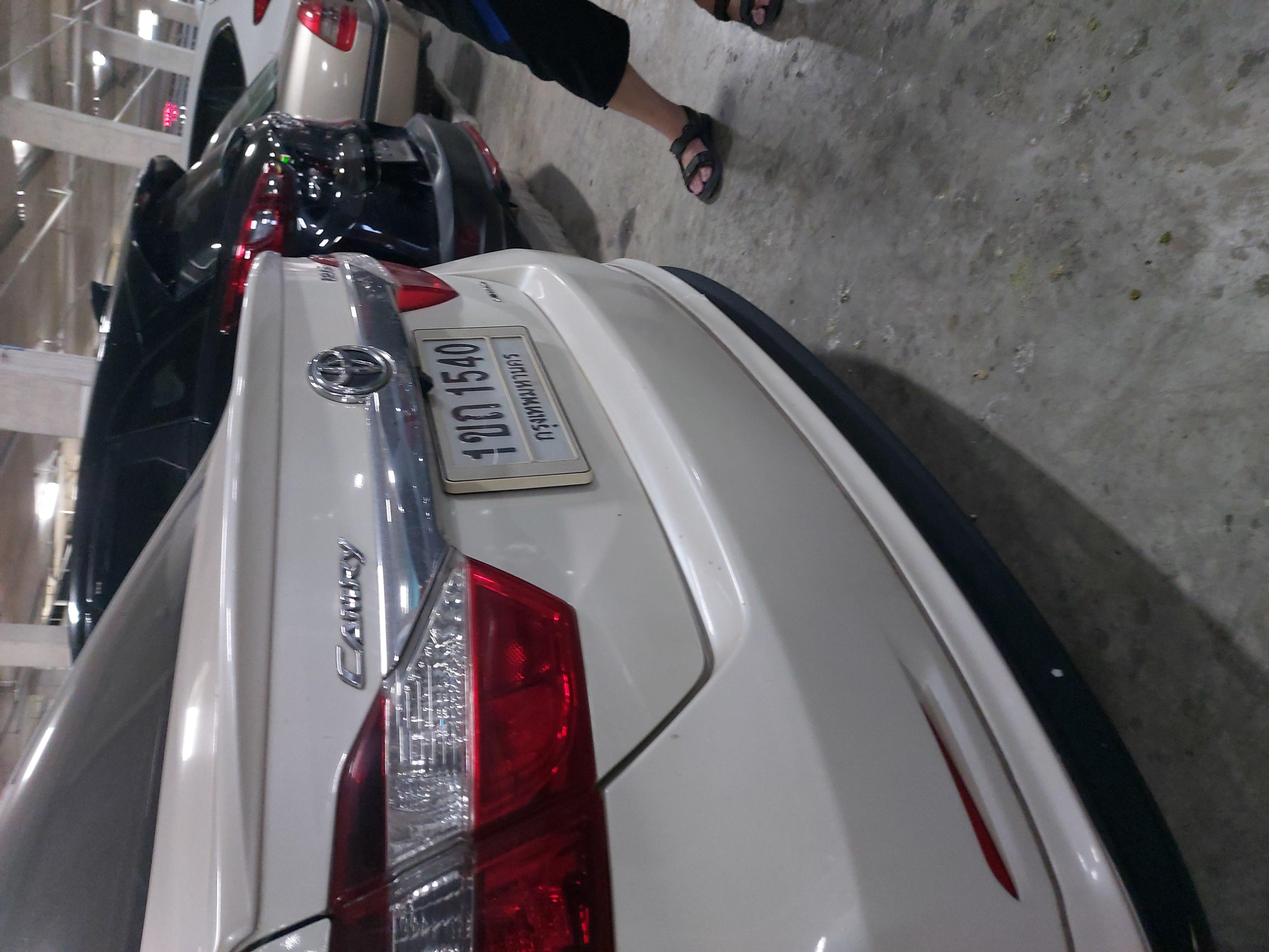license-plate: (643, 317, 826, 435)
